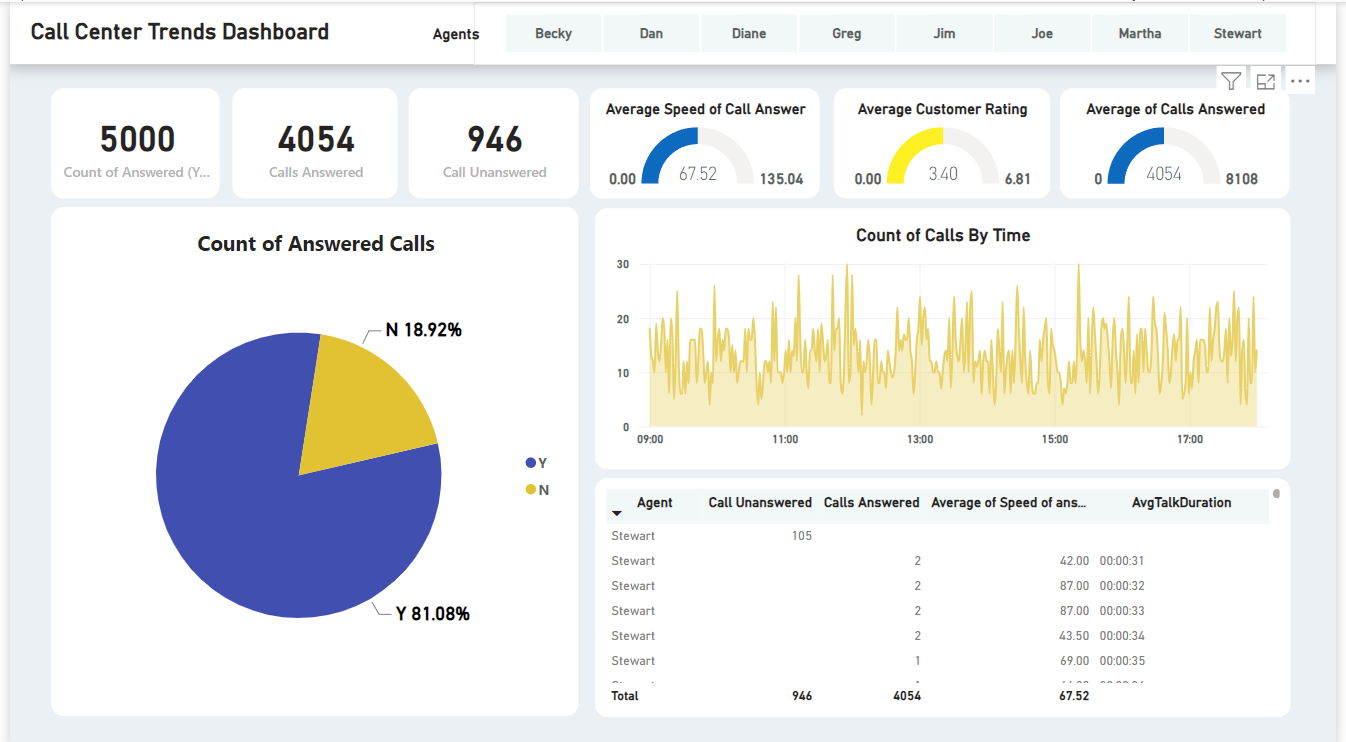

This screenshot's page, from the dashboard's own definition file:
{"tool":"powerbi","page":{"name":"Page 1","canvas":[1280,720],"ordinal":0},"visuals":[{"type":"card","fields":{"Values":["Sheet1.Answered (Y/N)"]},"box":[40,82.7,162.7,106.4],"z":0},{"type":"textbox","box":[0,0,1280,60],"z":1000},{"type":"card","fields":{"Values":["Sheet1.Calls Answered"]},"box":[214.5,82.7,159.1,106.4],"z":2000},{"type":"pieChart","title":"Count of Answered Calls","fields":{"Y":["Sheet1.Answered (Y/N)"],"Category":["Sheet1.Answered (Y/N)"]},"box":[40,198.2,509.1,490.9],"z":3000},{"type":"areaChart","title":"Count of Calls By Time","fields":{"Y":["Sheet1.Call Id"],"Category":["Sheet1.Time"]},"box":[564.5,199.1,670.9,251.8],"z":4000},{"type":"tableEx","fields":{"Values":["Sheet1.Agent","Sheet1.Call Unanswered","Sheet1.Calls Answered","Sheet1.Speed of answer in seconds","Sheet1.AvgTalkDuration"]},"box":[564.5,459.1,670.9,230],"z":5000},{"type":"gauge","title":"Average Customer Rating","fields":{"Y":["Sheet1.Satisfaction rating"]},"box":[795,83.2,208.7,106.2],"z":6000},{"type":"gauge","title":"Average Speed of Call Answer","fields":{"Y":["Sheet1.Speed of answer in seconds"]},"box":[559.8,83.2,222,106.2],"z":7000},{"type":"card","fields":{"Values":["Sheet1.Call Unanswered"]},"box":[385.5,82.7,163.6,106.4],"z":8000},{"type":"gauge","title":"Average of Calls Answered","fields":{"Y":["Sheet1.Calls Answered"]},"box":[1013.6,82.7,221.8,106.4],"z":9000},{"type":"slicer","title":"Agents","fields":{"Values":["Sheet1.Agent"]},"box":[448.2,0,812.7,60],"z":10000},{"type":"textbox","box":[402.7,17.3,145.5,63.6],"z":11000}]}

Visuals, with their boxes in screenshot pixels (x1, y1, x2, y2), scaled from the page's 1280x720 canvas onto the 1346x742 screenshot:
card - Sheet1.Answered (Y/N): box=[42, 85, 213, 195]
textbox: box=[0, 0, 1345, 62]
card - Sheet1.Calls Answered: box=[226, 85, 393, 195]
"Count of Answered Calls" pieChart: box=[42, 204, 577, 710]
"Count of Calls By Time" areaChart: box=[594, 205, 1299, 465]
tableEx - Sheet1.Agent x Sheet1.Call Unanswered: box=[594, 473, 1299, 710]
"Average Customer Rating" gauge: box=[836, 86, 1055, 195]
"Average Speed of Call Answer" gauge: box=[589, 86, 822, 195]
card - Sheet1.Call Unanswered: box=[405, 85, 577, 195]
"Average of Calls Answered" gauge: box=[1066, 85, 1299, 195]
"Agents" slicer: box=[471, 0, 1326, 62]
textbox: box=[423, 18, 576, 83]
